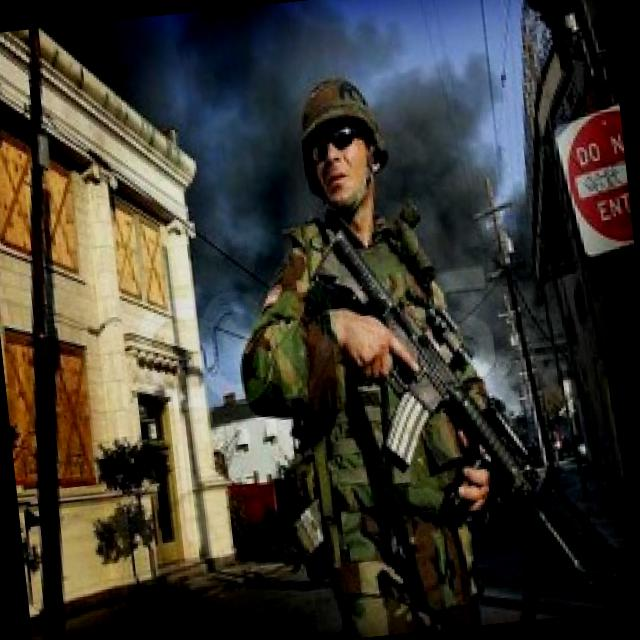long weapon: (278, 212, 627, 616)
